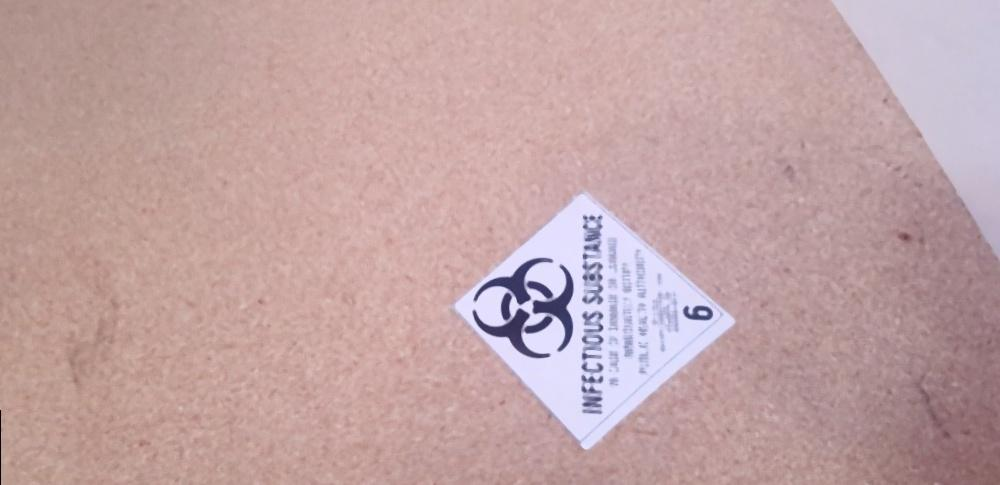infectious-substance: (439, 189, 748, 450)
